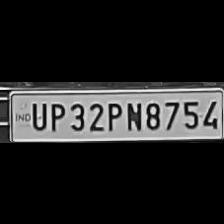2: (86, 99, 104, 131)
3: (66, 99, 84, 130)
4: (201, 96, 219, 128)
5: (179, 96, 199, 130)
7: (162, 98, 178, 130)
8: (142, 98, 162, 130)
N: (124, 98, 142, 132)
P: (47, 99, 65, 131), (104, 98, 122, 130)
U: (28, 98, 46, 130)
